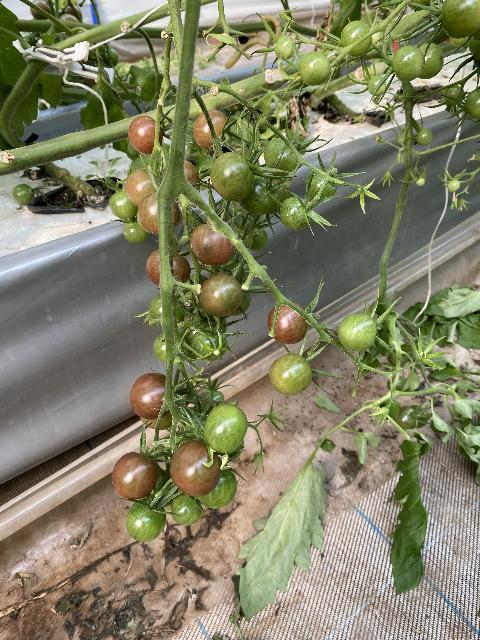l_fully_ripened: (130, 373, 172, 420)
l_green: (203, 403, 249, 454), (210, 152, 254, 201), (269, 353, 312, 397), (196, 462, 237, 508), (126, 498, 166, 541), (239, 175, 279, 216), (263, 136, 301, 179), (441, 0, 480, 39), (338, 313, 377, 352), (148, 294, 187, 329), (390, 44, 425, 81), (191, 328, 227, 362), (153, 329, 187, 364), (279, 196, 313, 230), (305, 168, 338, 203), (341, 21, 373, 57), (299, 51, 331, 86), (170, 492, 203, 525), (416, 42, 444, 80), (197, 389, 225, 423), (109, 191, 138, 219), (228, 284, 250, 316), (274, 34, 295, 60), (246, 227, 268, 250), (231, 227, 253, 248), (124, 223, 148, 242), (444, 85, 465, 106), (466, 89, 480, 120), (367, 74, 386, 96), (416, 129, 433, 145), (446, 179, 460, 192), (415, 177, 425, 187)
l_half_ripened: (170, 440, 223, 497), (111, 452, 159, 500), (198, 273, 244, 318), (190, 224, 238, 266), (146, 248, 191, 289), (268, 301, 309, 345), (138, 192, 180, 233), (193, 110, 231, 151), (125, 169, 162, 207), (128, 115, 164, 154), (141, 412, 172, 430)
